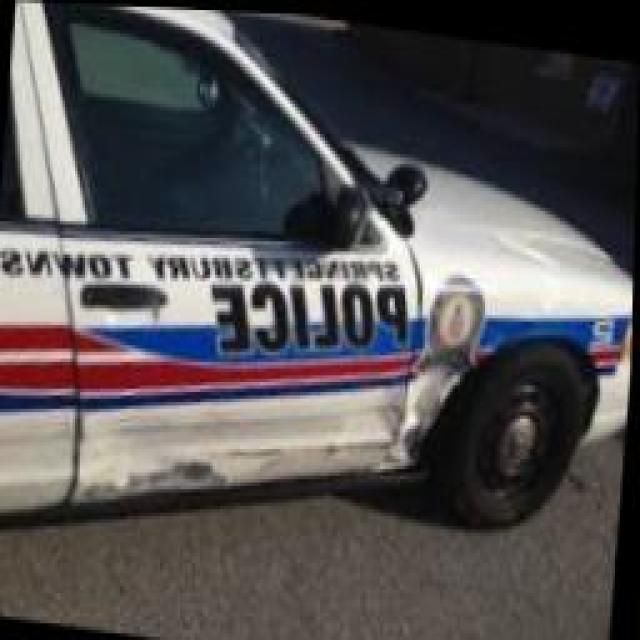Bumper: (384, 365, 477, 478)
Door: (76, 435, 275, 493)
